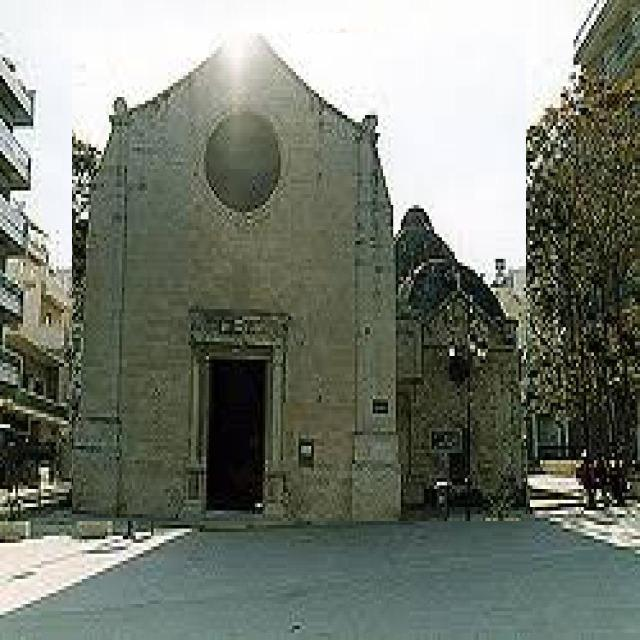Agia Aikaterini: (73, 34, 527, 522)
